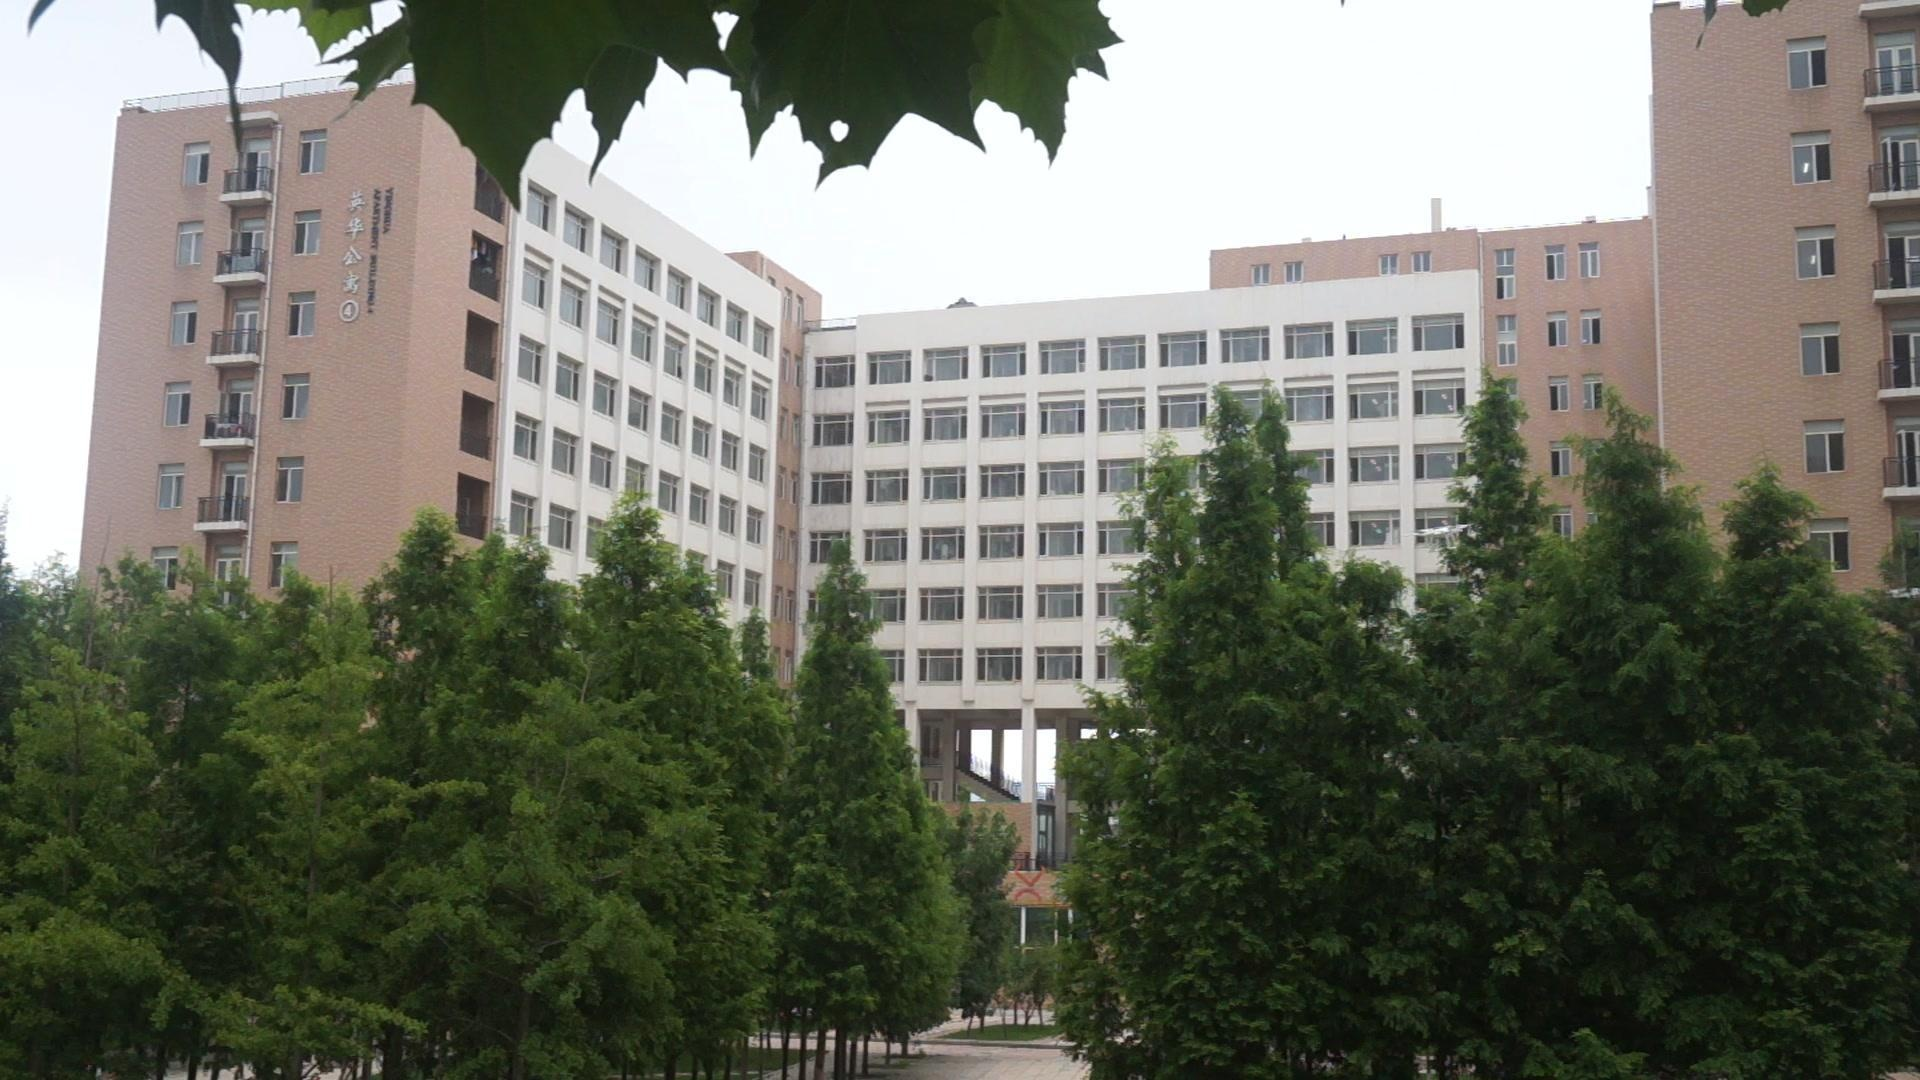UAV: (1412, 525, 1472, 553)
